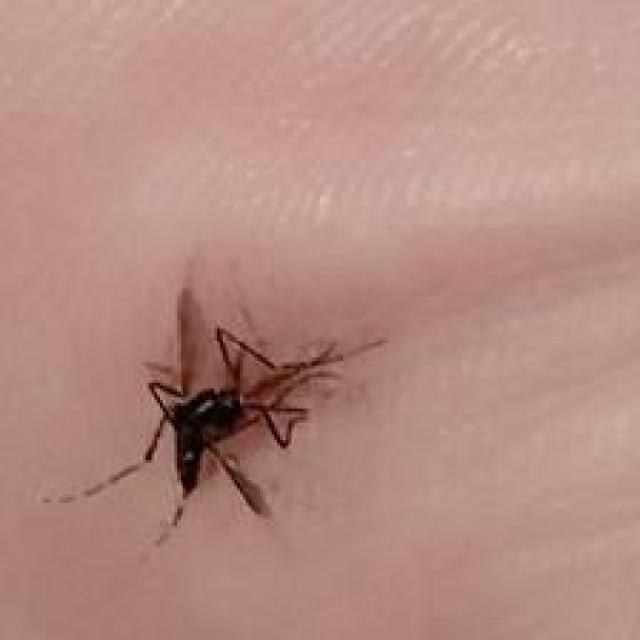Aedes albopictus: (37, 288, 386, 543)
